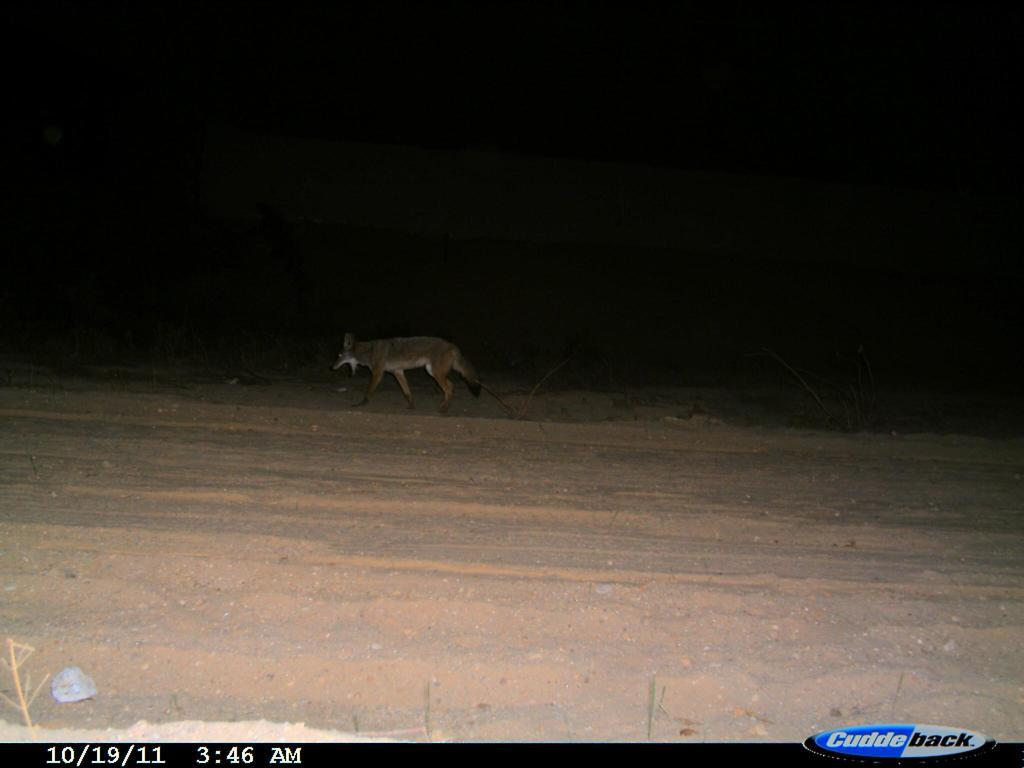coyote: (333, 328, 491, 420)
